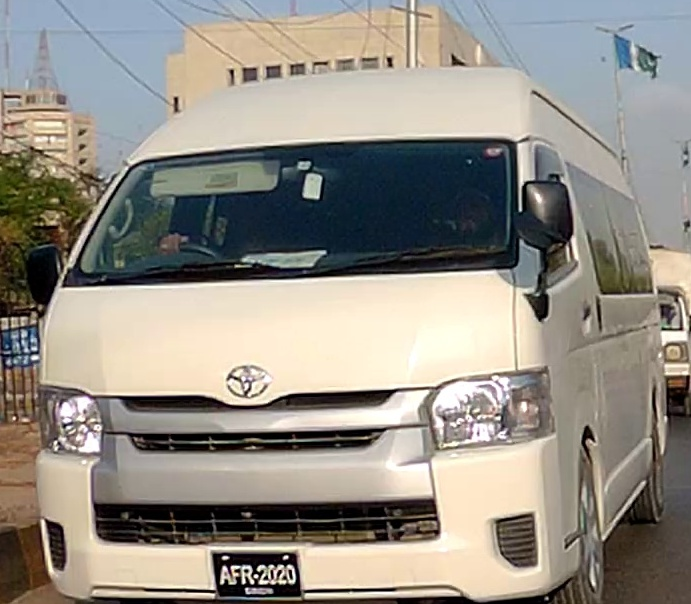van: (26, 67, 669, 604)
